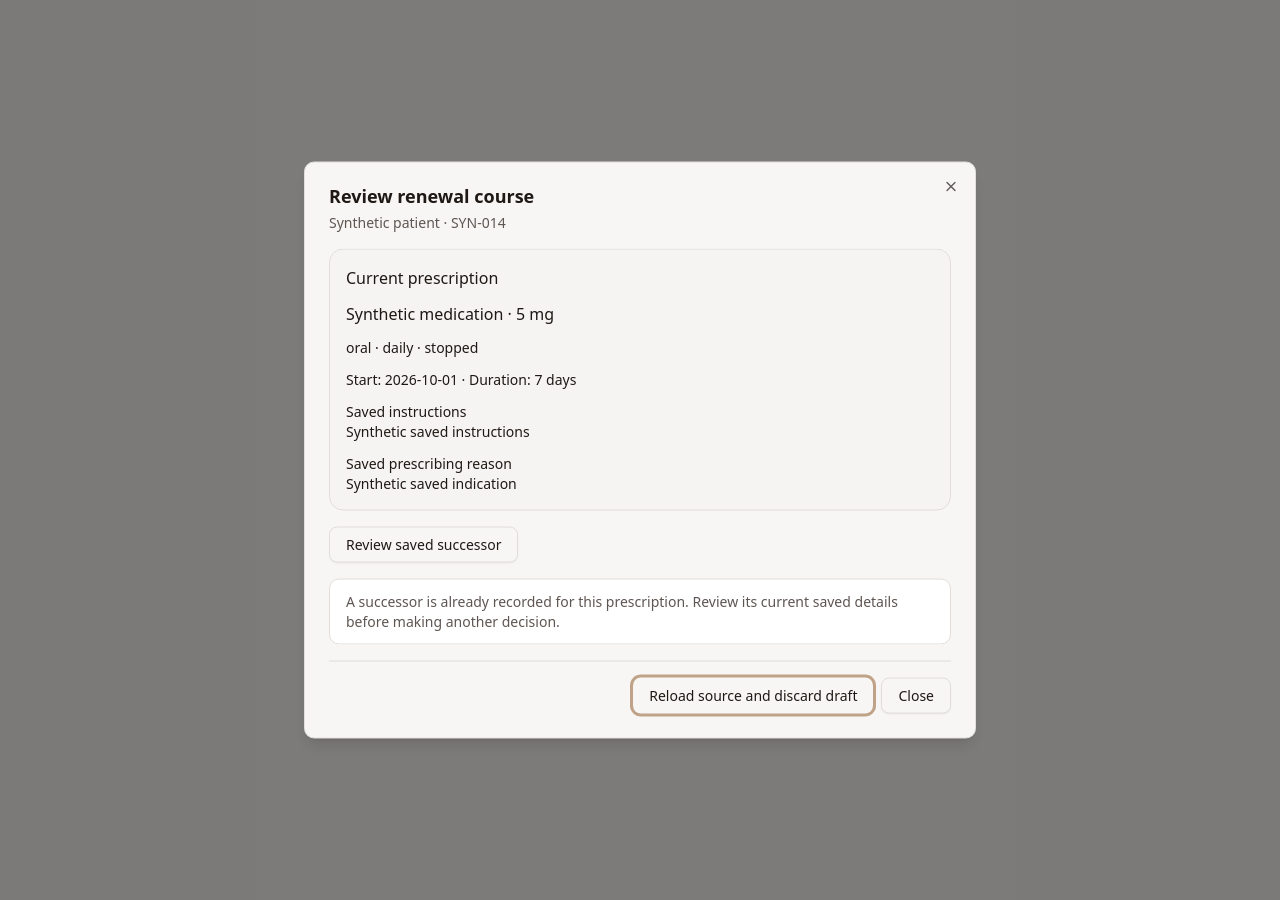
reviews an existing successor through a fresh same-patient read instead of attempting another course
This screenshot has width=1280, height=900.
Click the button "Review saved successor": click(424, 544) [329, 526, 518, 562]
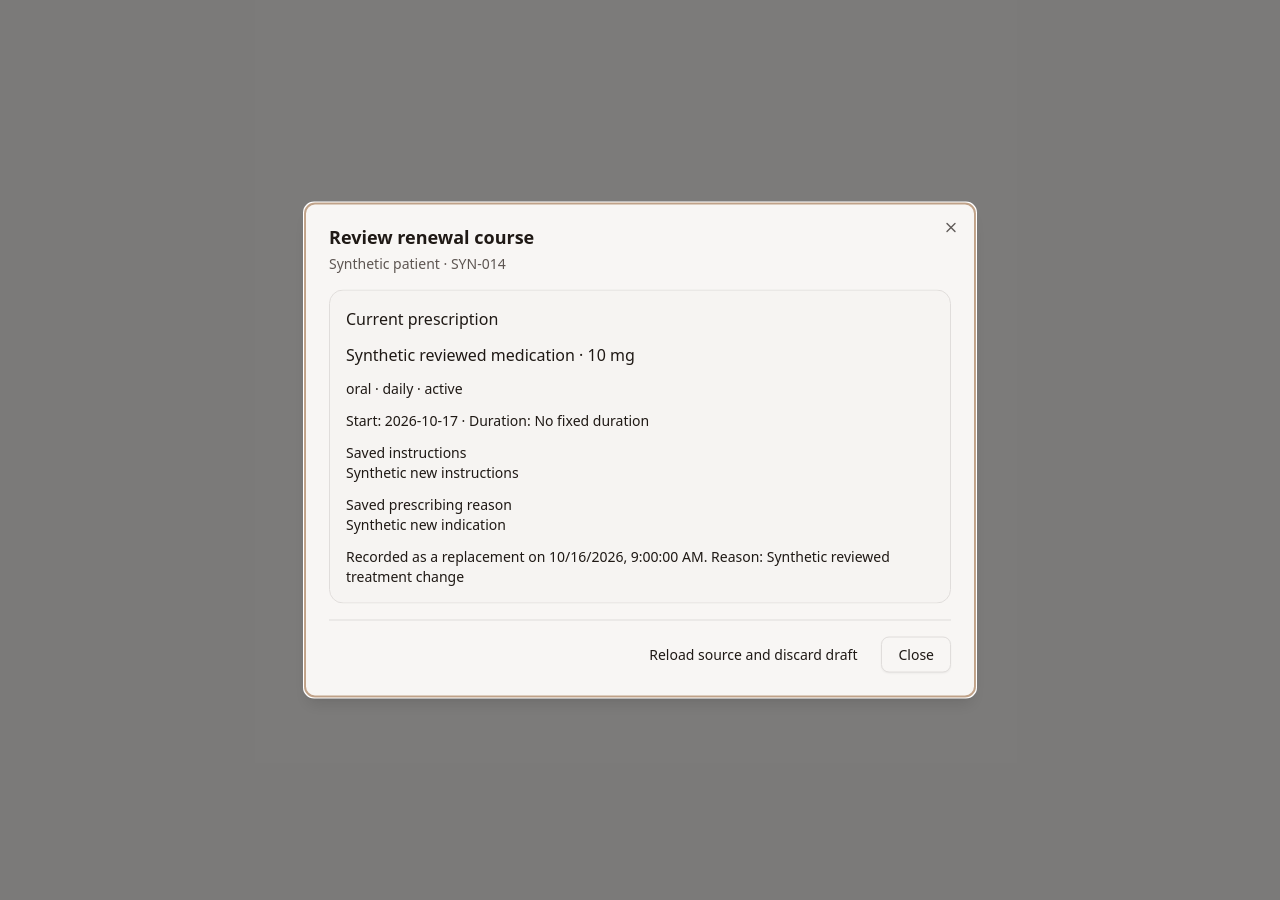
expect the text "Synthetic new instructions" is shown: met, box [346, 462, 519, 482]
